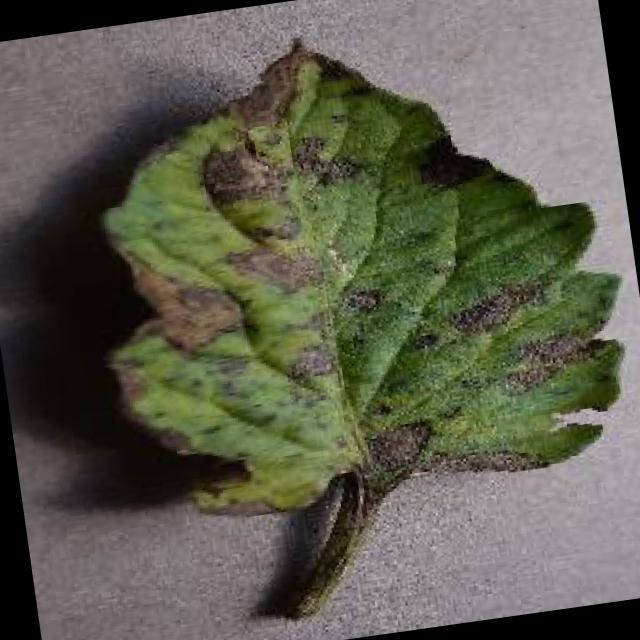Tomato_Early_Blight: (53, 0, 640, 552)
